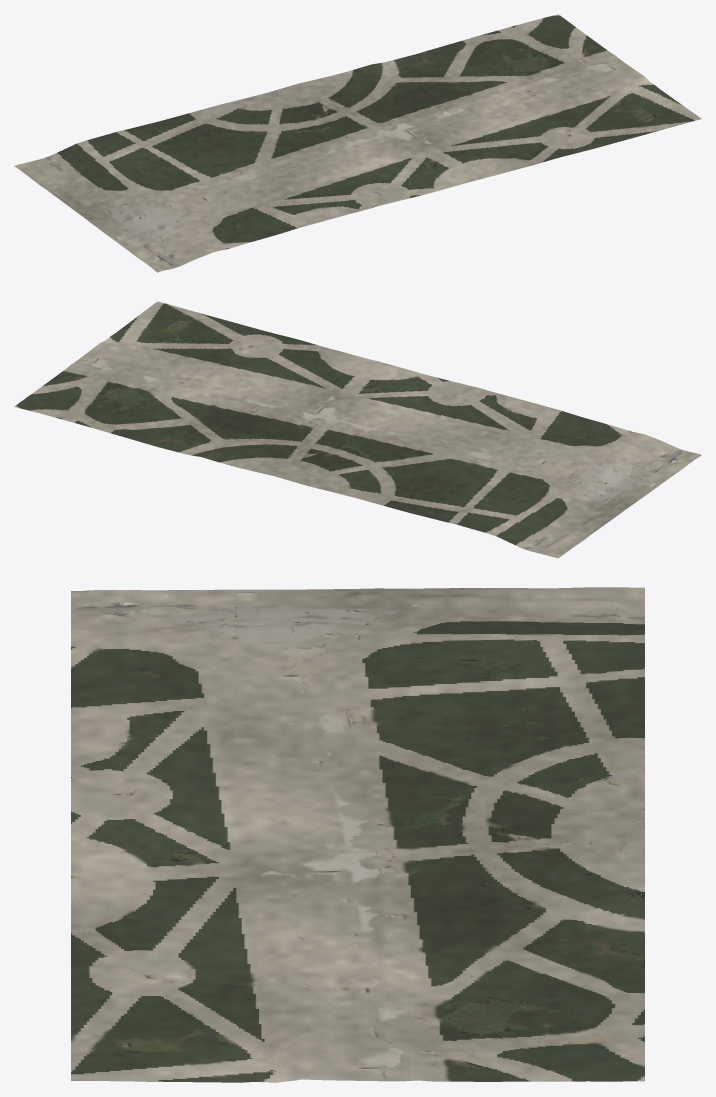
File: terreno_estatuas.glb
3 renders of one model, top to bottom at view 1: azimuth 30°, elevation 25°; view 2: azimuth 150°, elevation 25°; view 3: azimuth 270°, elevation 25°, orthographic. The views are drawn at different scales.
Visible parts, largest first — view 1: Web_Terreno_Estatuas; view 2: Web_Terreno_Estatuas; view 3: Web_Terreno_Estatuas.
Boxes of the visible parts, <box> form: Web_Terreno_Estatuas: <box>14,14,701,272</box>; Web_Terreno_Estatuas: <box>14,301,701,558</box>; Web_Terreno_Estatuas: <box>71,587,644,1082</box>.
Bounding box in the file's own units: 219 × 8.26 × 100.
4 materials, 4 textured.
